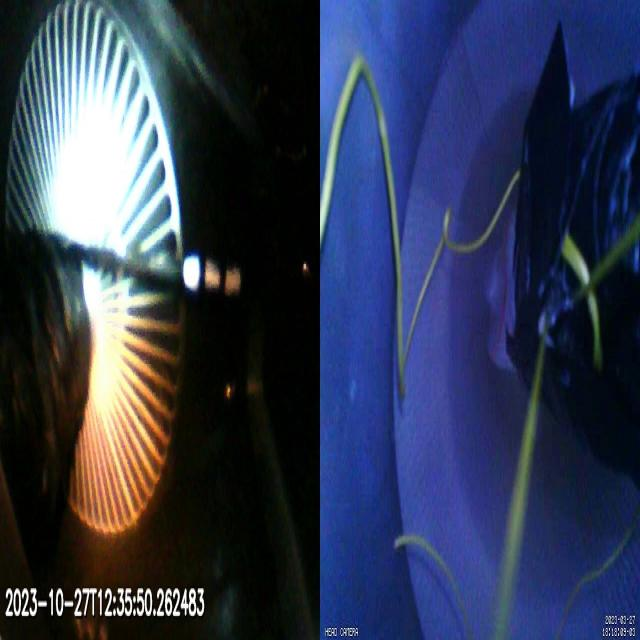white-dots: (182, 256, 240, 298)
